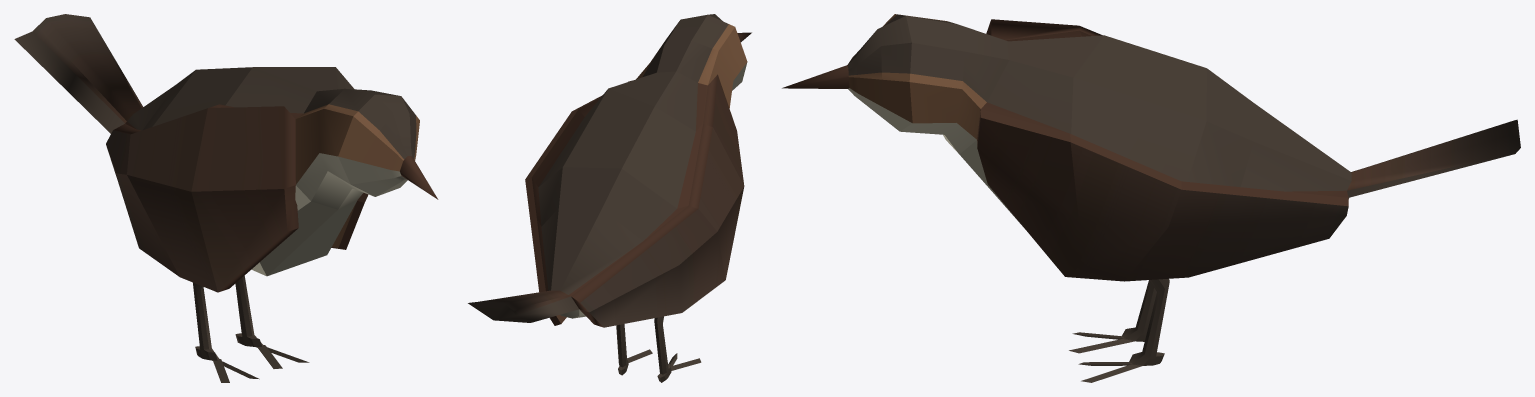
Rendered from pajaritocontextura.fbx.
3 renders of one model, left to right at view 1: azimuth 30°, elevation 25°; view 2: azimuth 150°, elevation 25°; view 3: azimuth 270°, elevation 25°, orthographic. The views are drawn at different scales.
Parts seen in each view (by area): view 1: pCylinder1; view 2: pCylinder1; view 3: pCylinder1.
Part boxes in pixels (<box>): pCylinder1: <box>14,14,438,382</box>; pCylinder1: <box>468,14,751,382</box>; pCylinder1: <box>782,14,1520,382</box>.
Size of the model in its own units: 0.3013 by 0.4462 by 0.833.
Materials: 1 (1 with a texture image).
